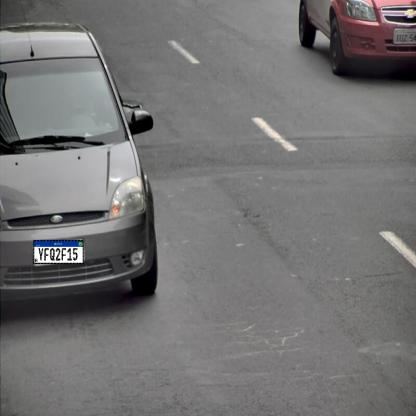PlacaM: (33, 240, 84, 264)
